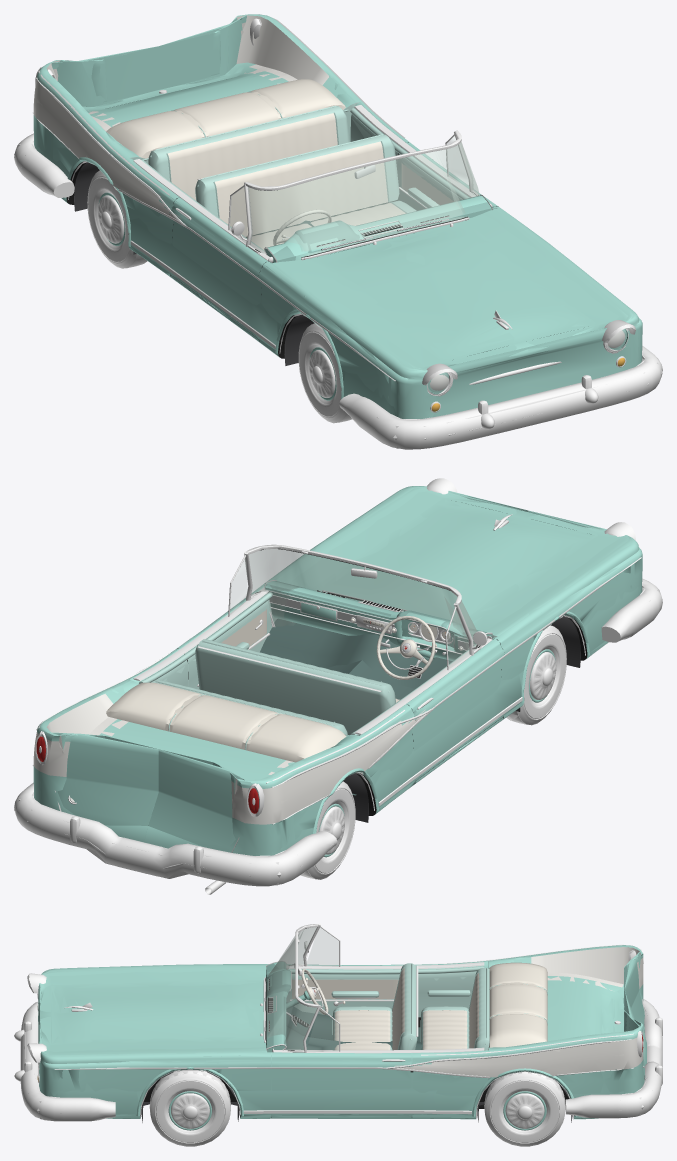
File: convertible.glb
3 views of the same model, one above another, from view 1: azimuth 30°, elevation 25°; view 2: azimuth 150°, elevation 25°; view 3: azimuth 270°, elevation 25° (orthographic). The views are drawn at different scales.
Visible parts, largest first — view 1: body, trim, body_L1, glass, glass_L1, trim_L1, wheel_FR_mesh, wheel_RR_mesh, wheel_FR_L1_mesh, wheel_RR_L1_mesh; view 2: trim, body, body_L1, trim_L1, glass, glass_L1, wheel_FR_mesh, wheel_RR_mesh, steering_wheel_mesh, wheel_FR_L1_mesh, wheel_RR_L1_mesh; view 3: body, trim, body_L1, trim_L1, glass, wheel_FL_mesh, wheel_RL_mesh, glass_L1, wheel_FL_L1_mesh, wheel_RL_L1_mesh, steering_wheel_mesh.
Boxes of the visible parts, x1,y1,x2,y2 form: body: (33,14,642,418); trim: (14,15,662,449); body_L1: (34,14,642,418); glass: (229,136,479,255); glass_L1: (248,143,479,255); trim_L1: (14,19,662,448); wheel_FR_mesh: (298,324,352,423); wheel_RR_mesh: (87,170,147,268); wheel_FR_L1_mesh: (299,323,350,422); wheel_RR_L1_mesh: (87,173,146,268); trim: (14,478,662,894); body: (33,486,642,855); body_L1: (34,486,642,855); trim_L1: (14,478,662,885); glass: (230,549,478,668); glass_L1: (249,549,476,648); wheel_FR_mesh: (506,626,566,725); wheel_RR_mesh: (300,781,355,879); steering_wheel_mesh: (376,616,435,679); wheel_FR_L1_mesh: (506,625,566,724); wheel_RR_L1_mesh: (301,785,354,879); body: (38,945,646,1119); trim: (14,923,662,1122); body_L1: (38,945,644,1118); trim_L1: (21,924,662,1119); glass: (266,927,338,1051); wheel_FL_mesh: (150,1070,230,1146); wheel_RL_mesh: (484,1072,565,1146); glass_L1: (266,927,316,1049); wheel_FL_L1_mesh: (149,1070,230,1145); wheel_RL_L1_mesh: (484,1071,565,1145); steering_wheel_mesh: (301,969,328,1014).
Size of the model in its own units: 2.3 by 1.4 by 5.74.
